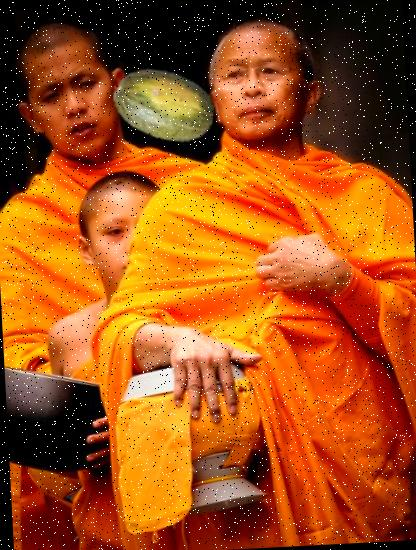Melon: (110, 52, 218, 158)
